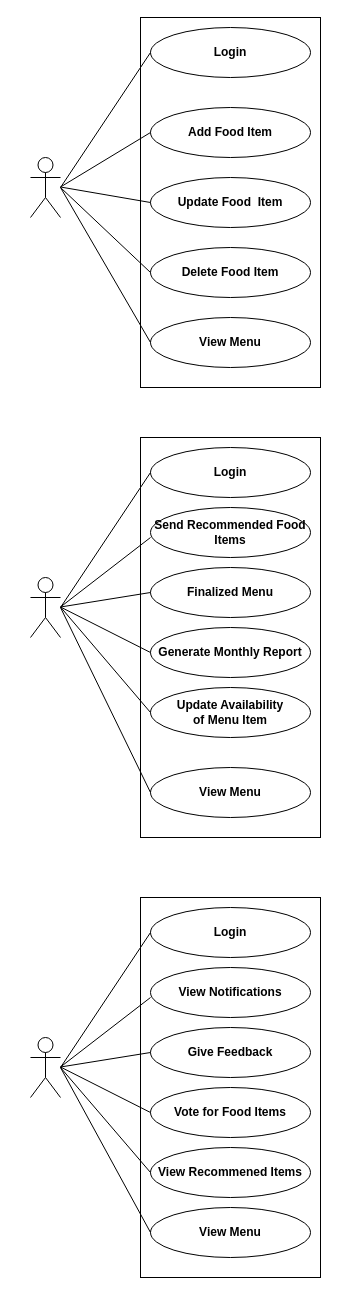
Image size: 338x1295. Some labels were removed from this diagram. The centre of each missing label's shape, as x and y in pixels:
"Admin" goes at pixel 45 187.
"Chef" goes at pixel 45 607.
"Employee" goes at pixel 45 1067.
